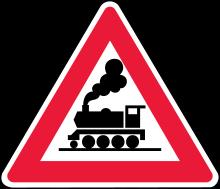Barrier Ahead: (9, 10, 208, 177)
